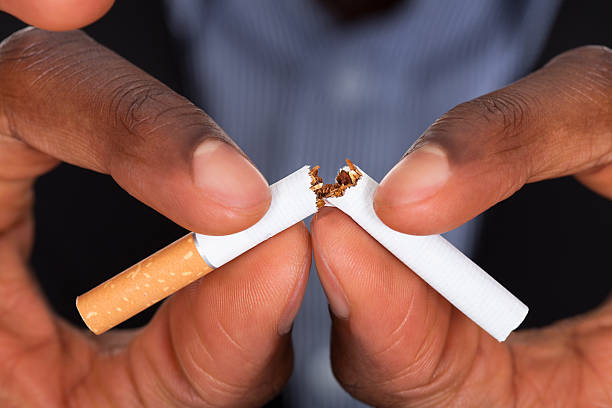cigarette: (75, 160, 330, 344), (325, 163, 532, 344)
